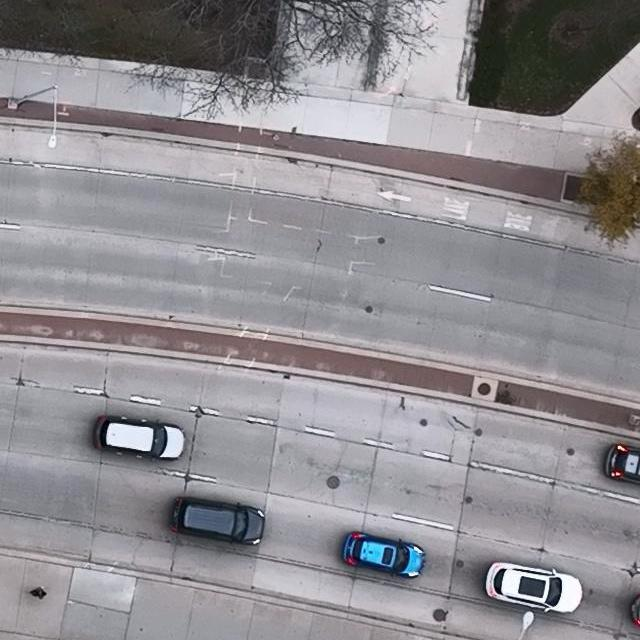car: (484, 562, 582, 613), (169, 495, 266, 546), (91, 416, 184, 461), (342, 531, 425, 578), (604, 443, 640, 485)
